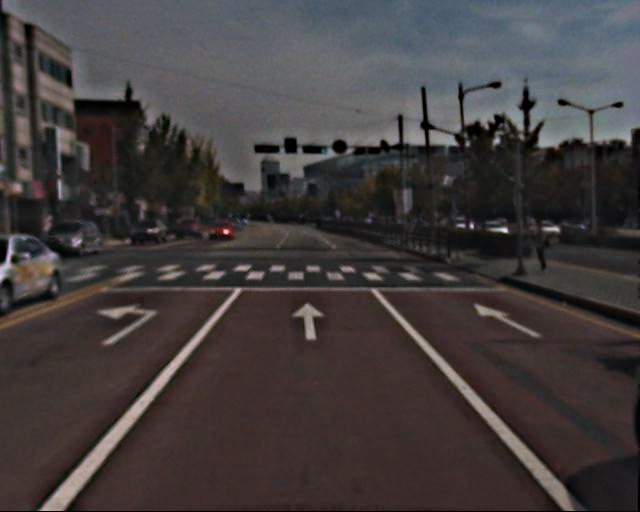person: (525, 217, 551, 277)
